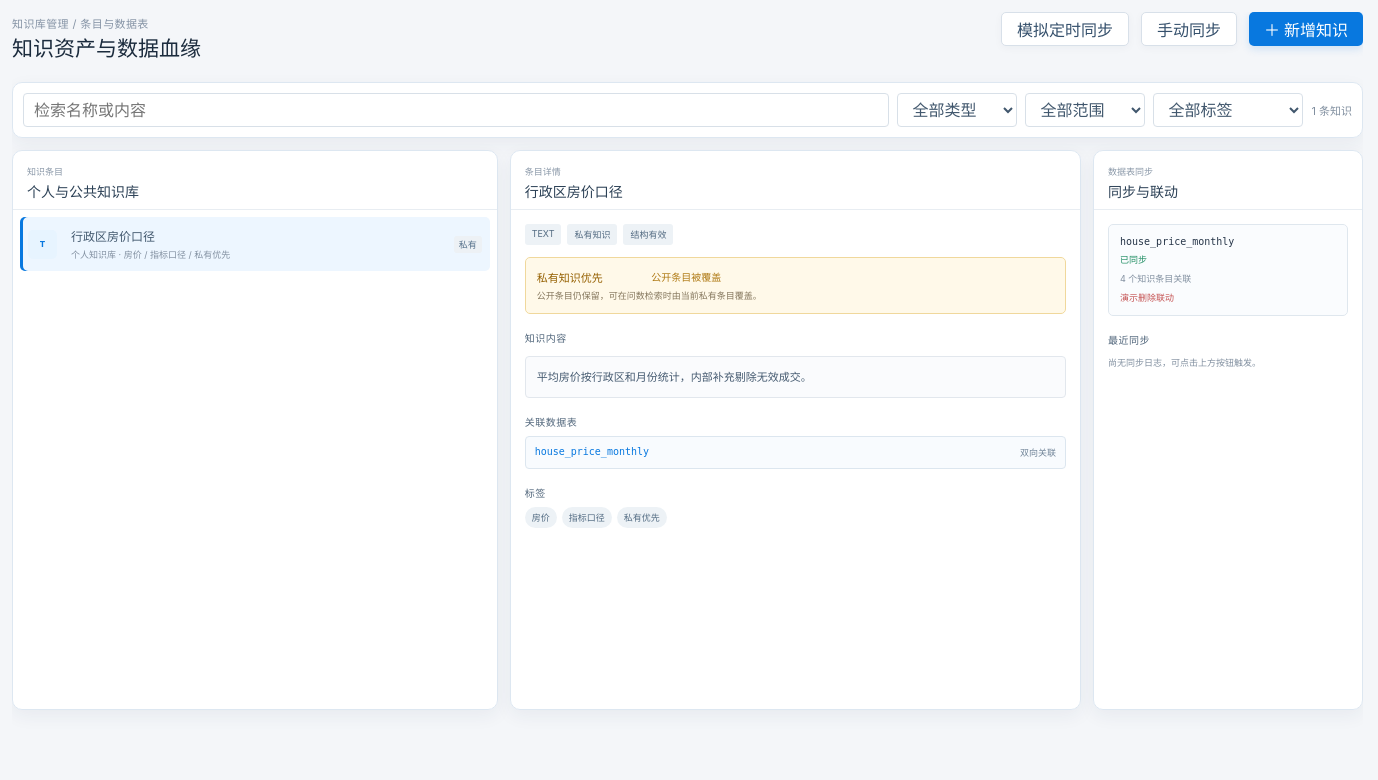
Test case: runs the same auditable workflow for manual and scheduled demo sync
Click the button "手动同步" at [1189, 29], box [1141,12,1237,46]
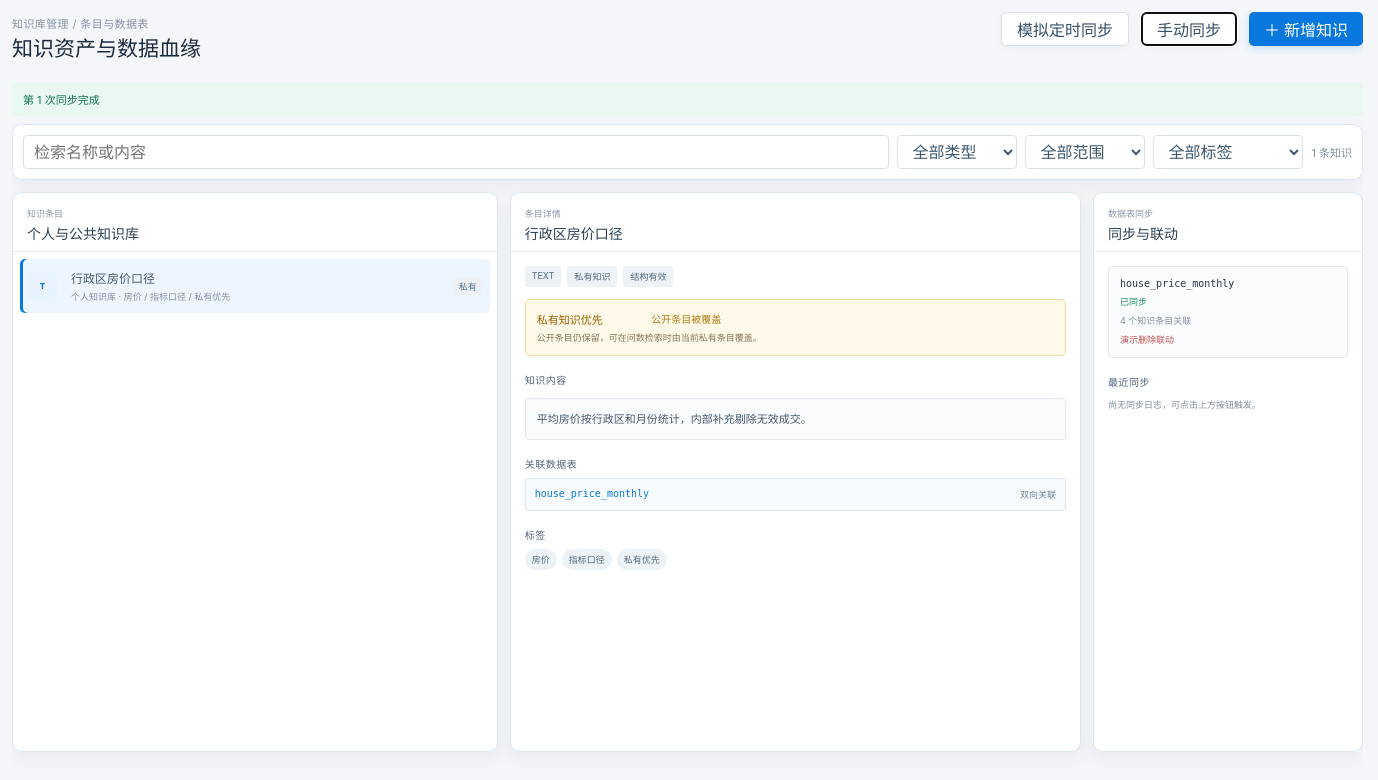
expect the text "第 1 次同步完成" is shown: met, box [12,82,1363,116]
Click the button "模拟定时同步" at [1065, 29], box [1001,12,1129,46]
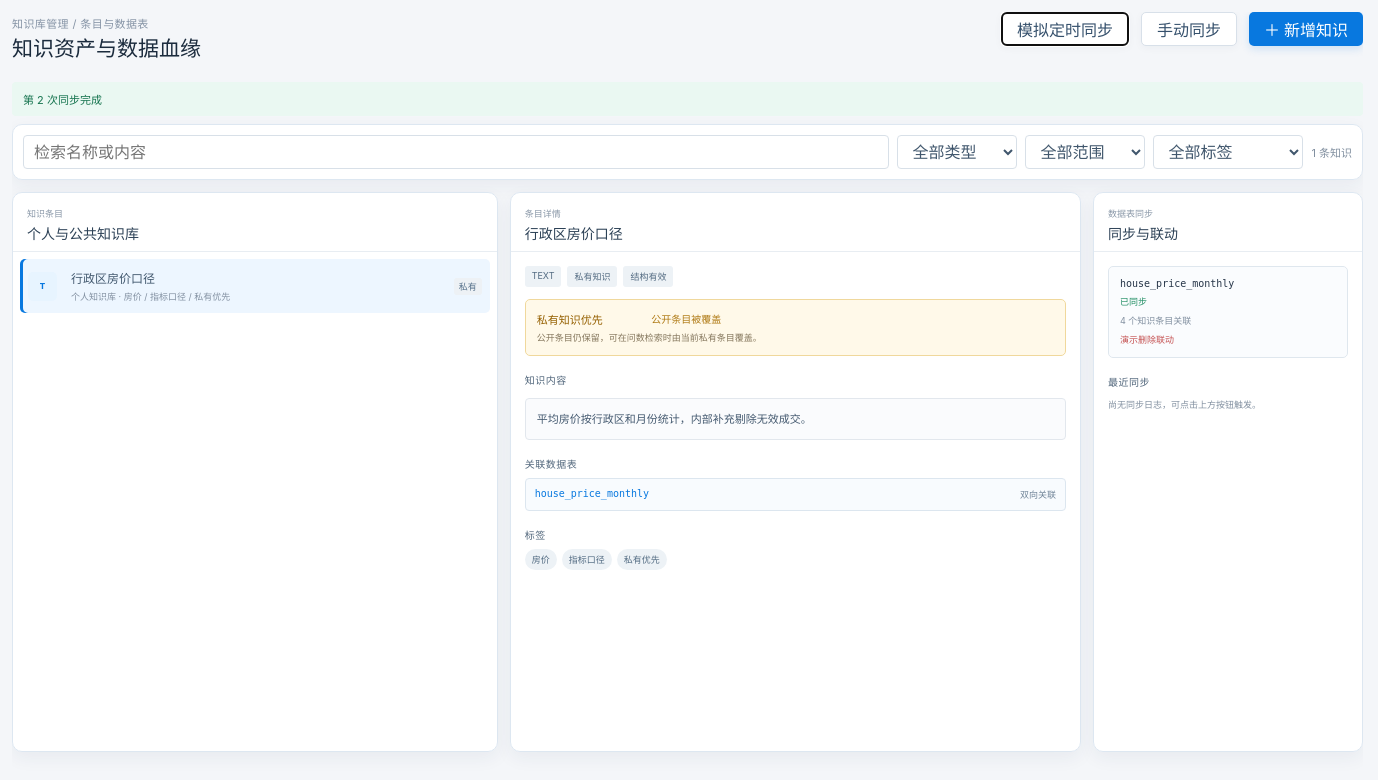
expect the text "第 2 次同步完成" is shown: met, box [12,82,1363,116]
